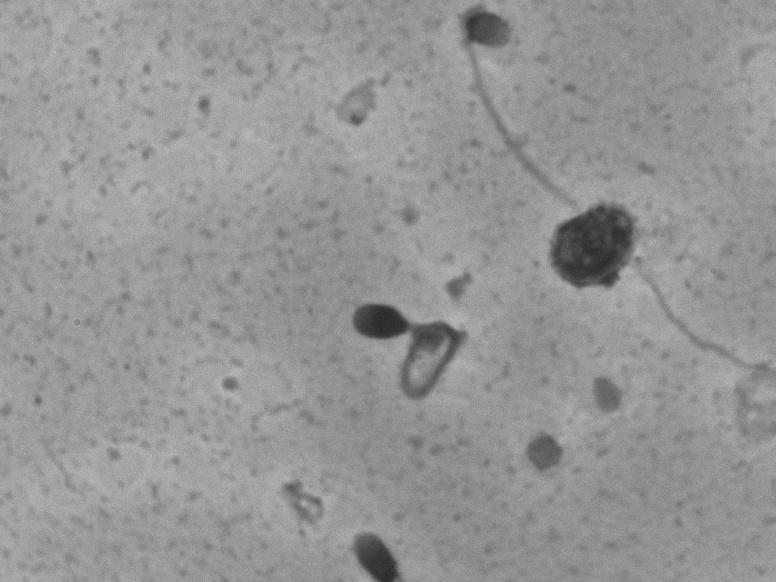Abnormal: (413, 8, 592, 194), (317, 277, 515, 426)
